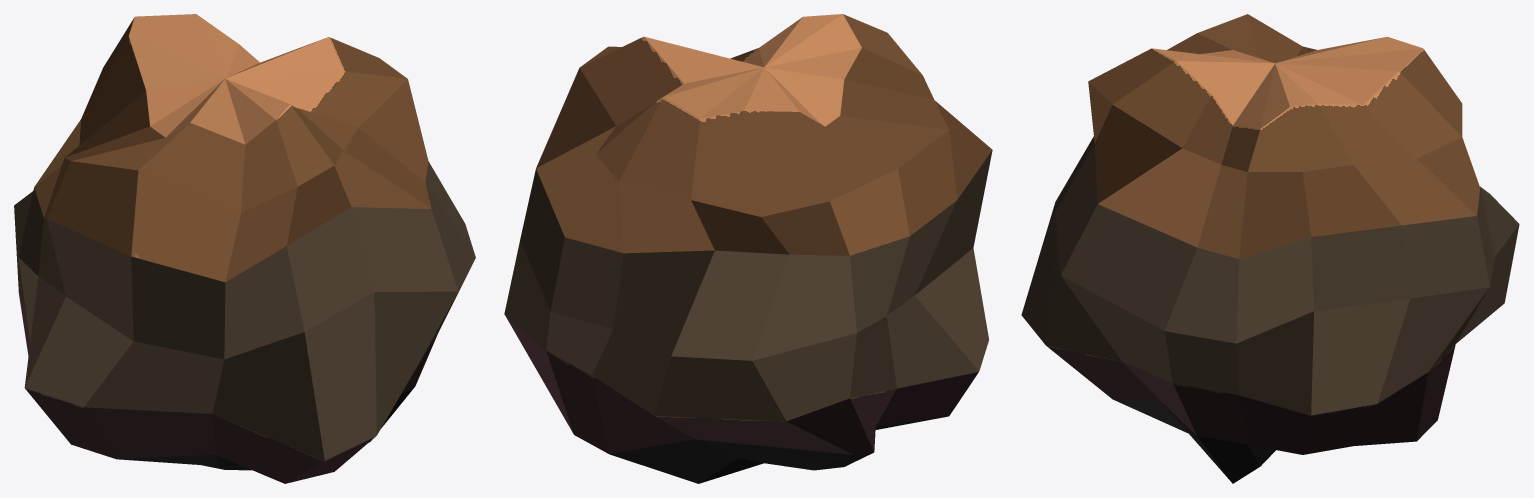
File: Asteroid2.gltf
3 renders of one model, left to right at view 1: azimuth 30°, elevation 25°; view 2: azimuth 150°, elevation 25°; view 3: azimuth 270°, elevation 25°, orthographic. The views are drawn at different scales.
Parts seen in each view (by area): view 1: sphere; view 2: sphere; view 3: sphere.
Boxes of the visible parts, x1=… form: sphere: x1=14, y1=14, x2=475, y2=483; sphere: x1=504, y1=14, x2=992, y2=483; sphere: x1=1021, y1=14, x2=1519, y2=483.
Size of the model in its own units: 1.24 by 1.09 by 1.27.
Materials: 1 (1 with a texture image).
